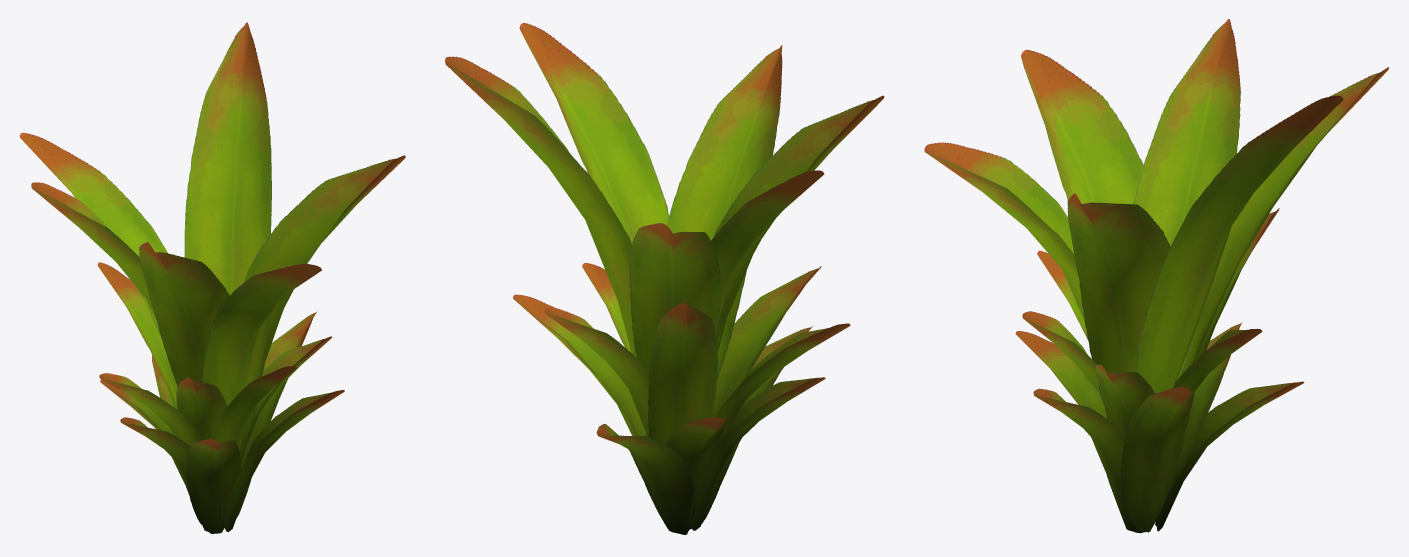
File: plant_leafy_large.glb
3 renders of one model, left to right at view 1: azimuth 30°, elevation 25°; view 2: azimuth 150°, elevation 25°; view 3: azimuth 270°, elevation 25°, orthographic. The views are drawn at different scales.
Visible parts, largest first — view 1: Plant_1_Big; view 2: Plant_1_Big; view 3: Plant_1_Big.
Boxes of the visible parts, x1=… form: Plant_1_Big: x1=19, y1=22, x2=405, y2=533; Plant_1_Big: x1=445, y1=22, x2=884, y2=534; Plant_1_Big: x1=924, y1=19, x2=1389, y2=533.
Bounding box in the file's own units: 1.81 × 2.35 × 1.95.
1 material, 1 textured.
